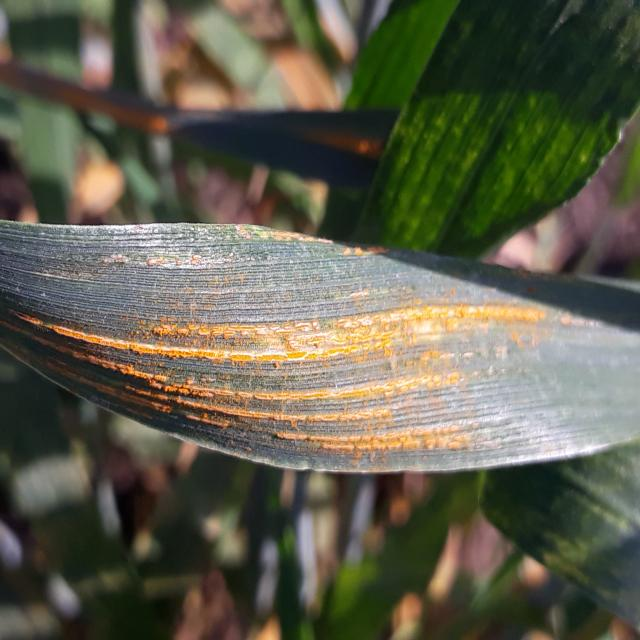yellow_rust: (0, 225, 640, 484), (3, 56, 389, 184)
